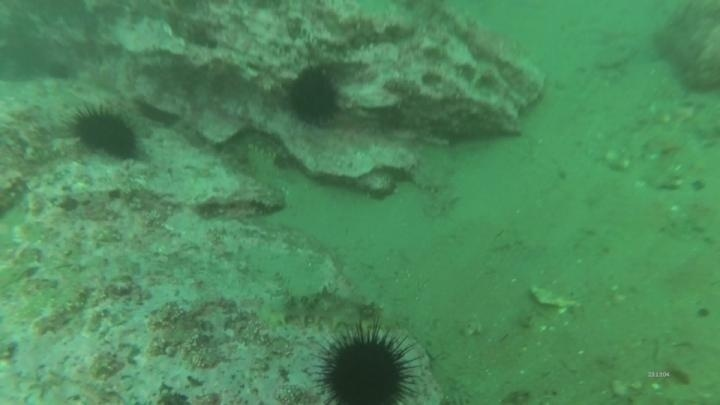echinus: (313, 323, 422, 405), (67, 102, 144, 163), (282, 63, 346, 130)
holothurian: (257, 285, 384, 336), (237, 141, 293, 211)
